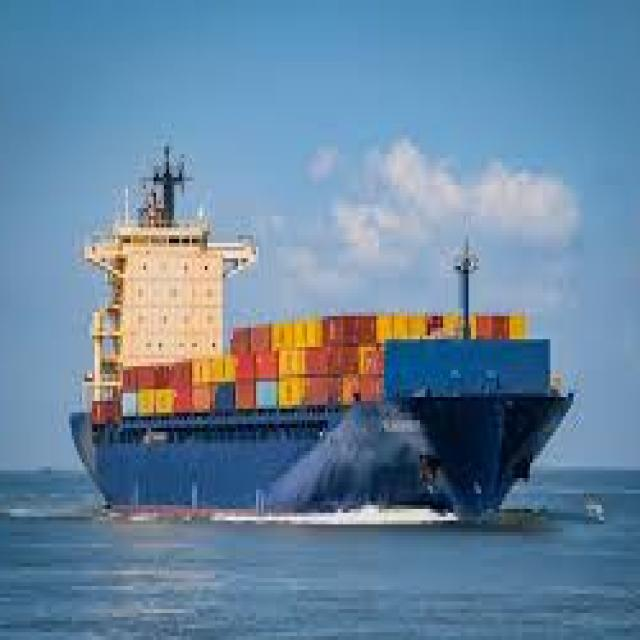cargoship: (74, 143, 573, 527)
